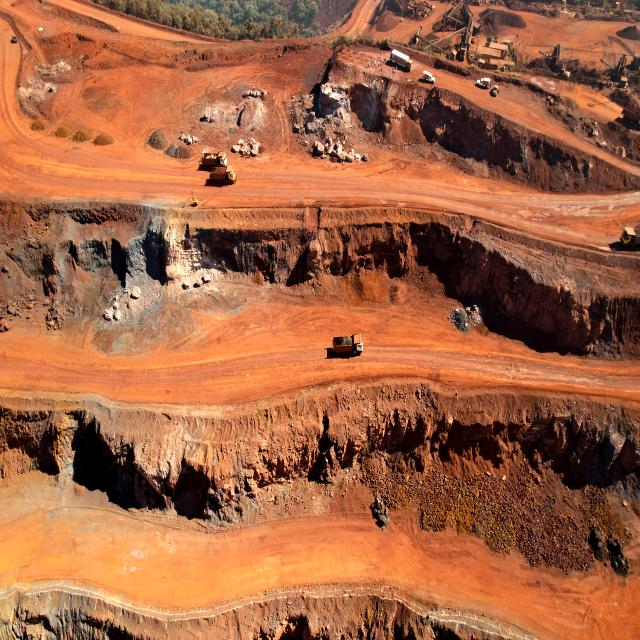Dumper truck: (332, 332, 363, 355), (209, 165, 236, 185), (202, 152, 227, 169), (621, 225, 640, 246), (622, 105, 640, 125)
car: (422, 70, 436, 82), (477, 76, 491, 88), (460, 44, 467, 60)
person: (395, 66, 397, 73), (368, 61, 370, 68), (381, 68, 383, 74), (382, 60, 384, 66)
